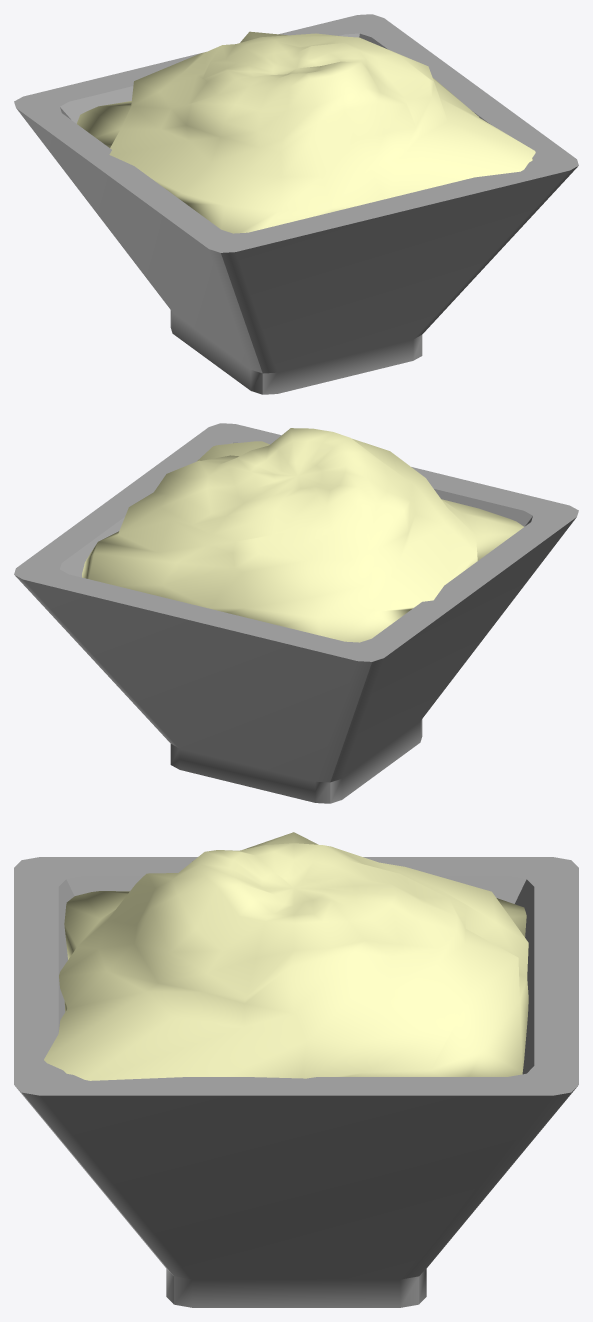
Rendered from MashedPotatoServing.fbx.
3 views of the same model, one above another, from view 1: azimuth 30°, elevation 25°; view 2: azimuth 150°, elevation 25°; view 3: azimuth 270°, elevation 25° (orthographic). The views are drawn at different scales.
Parts seen in each view (by area): view 1: bowl, MashedPotato; view 2: bowl, MashedPotato; view 3: bowl, MashedPotato.
Part boxes in pixels (x1,y1,x2,y2): bowl: (14,14,578,394); MashedPotato: (77,31,535,233); bowl: (14,423,578,803); MashedPotato: (82,428,523,642); bowl: (14,857,578,1307); MashedPotato: (44,832,528,1080).
Bounding box in the file's own units: 0.0657 × 0.0499 × 0.0657.
